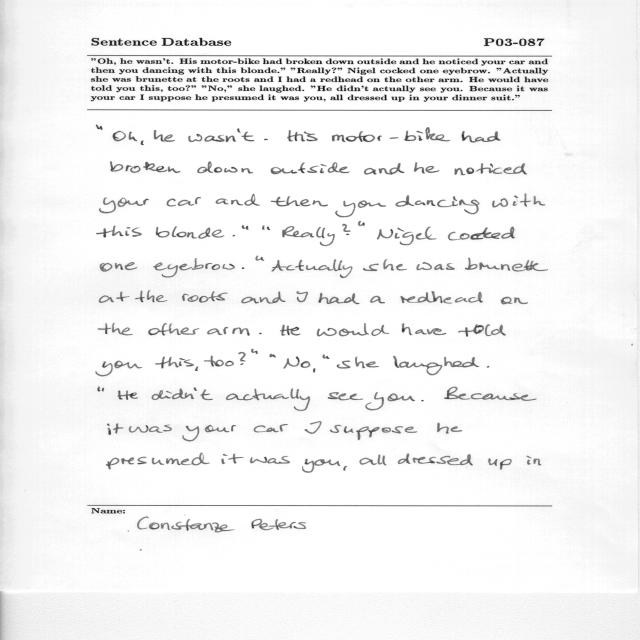word: (226, 389, 310, 411), (332, 127, 450, 142), (107, 453, 210, 470), (153, 258, 235, 278), (393, 356, 479, 375), (396, 195, 480, 214), (272, 259, 353, 278), (330, 425, 417, 440), (444, 387, 537, 401), (465, 258, 548, 272), (400, 291, 483, 304), (377, 227, 436, 245), (282, 226, 335, 246), (448, 227, 515, 241), (271, 163, 349, 175), (317, 324, 389, 337), (189, 128, 255, 142), (182, 425, 236, 442), (365, 392, 415, 410), (398, 454, 473, 466), (156, 226, 224, 239), (454, 163, 527, 175), (335, 201, 386, 218), (111, 161, 181, 173), (152, 388, 213, 401), (100, 198, 149, 214), (96, 361, 142, 376), (492, 194, 545, 207), (197, 162, 253, 174), (148, 323, 199, 336), (271, 196, 328, 207), (458, 324, 506, 337), (241, 291, 286, 304), (97, 226, 142, 238), (182, 291, 227, 303), (302, 459, 340, 473), (216, 194, 260, 206), (363, 260, 407, 272), (402, 323, 446, 335), (337, 357, 379, 369), (155, 357, 194, 369), (462, 131, 500, 143), (98, 323, 133, 336), (364, 163, 405, 174), (319, 293, 360, 304), (207, 327, 250, 336), (287, 130, 318, 142), (101, 262, 138, 272), (135, 291, 168, 302), (99, 291, 129, 303), (284, 356, 311, 369), (129, 425, 172, 433), (167, 197, 201, 207), (204, 356, 234, 367), (250, 456, 290, 464), (328, 392, 363, 401), (416, 262, 455, 270), (360, 455, 387, 466), (488, 458, 512, 470), (414, 163, 440, 174), (253, 424, 288, 432), (437, 423, 462, 434), (154, 130, 175, 142), (113, 131, 138, 141), (305, 421, 322, 434), (280, 325, 300, 336), (222, 454, 244, 464), (501, 297, 528, 305), (117, 390, 138, 400), (108, 423, 124, 435), (527, 456, 542, 466), (296, 291, 308, 302), (370, 296, 385, 303), (238, 352, 246, 365), (342, 224, 351, 235), (255, 256, 264, 261), (96, 125, 103, 130), (242, 225, 249, 230), (358, 221, 365, 226), (251, 349, 258, 354), (323, 354, 330, 359), (262, 226, 270, 230), (98, 387, 104, 392), (269, 354, 276, 358), (344, 466, 348, 471), (141, 140, 144, 145), (195, 366, 198, 371), (313, 368, 315, 373), (242, 267, 245, 269), (264, 139, 268, 140), (259, 333, 262, 334), (421, 400, 424, 401), (233, 235, 235, 236), (487, 366, 489, 367)
